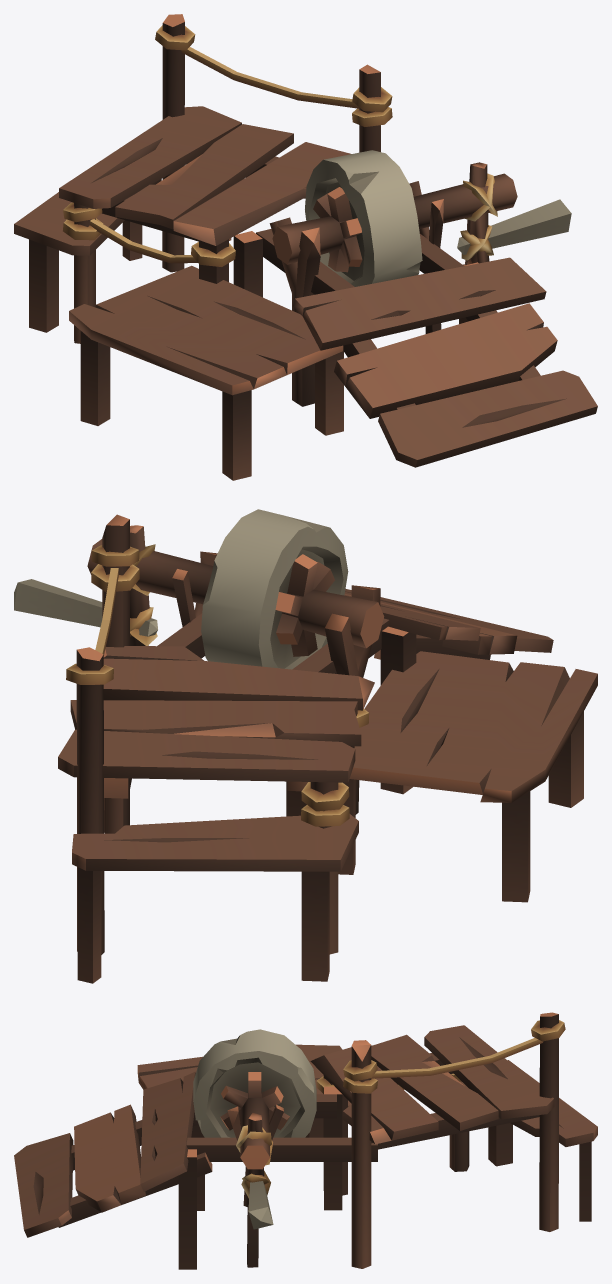
The model's file is Workbench_1A.fbx.
The picture shows the model from 3 angles, top to bottom: view 1: azimuth 30°, elevation 25°; view 2: azimuth 150°, elevation 25°; view 3: azimuth 270°, elevation 25°; orthographic projection. The views are drawn at different scales.
Parts seen in each view (by area): view 1: Workbench_1A, Workbench_1A_Wheel; view 2: Workbench_1A, Workbench_1A_Wheel; view 3: Workbench_1A, Workbench_1A_Wheel.
Part boxes in pixels (x1,y1,x2,y2): Workbench_1A: (14,14,597,480); Workbench_1A_Wheel: (272,150,571,286); Workbench_1A: (58,514,597,983); Workbench_1A_Wheel: (14,509,384,669); Workbench_1A: (14,1012,597,1269); Workbench_1A_Wheel: (193,1029,316,1229).
Size of the model in its own units: 442 by 235 by 564.
